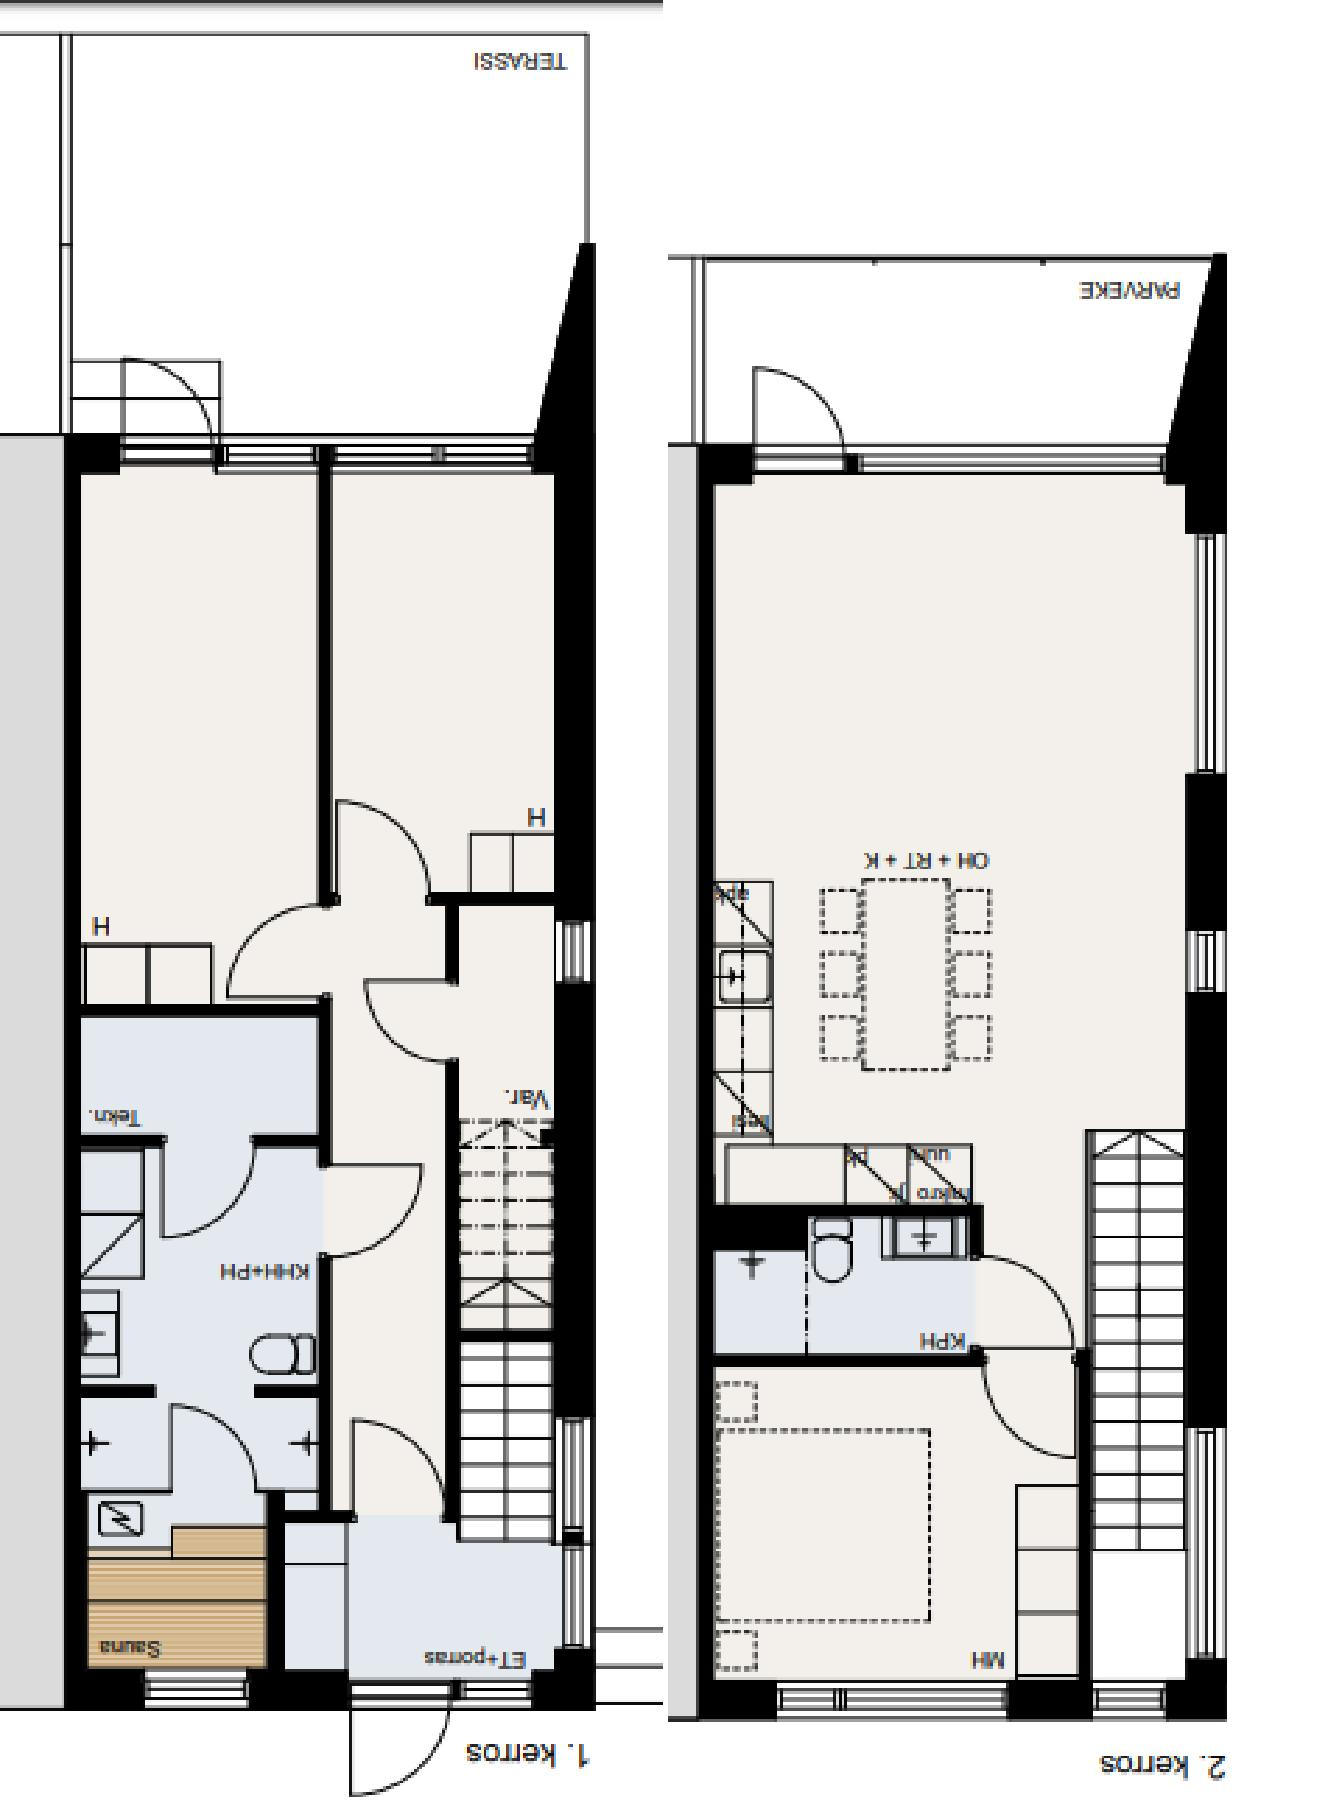door: (962, 1247, 1075, 1469), (207, 889, 336, 1009), (104, 357, 231, 474), (742, 353, 852, 473), (346, 1677, 447, 1799), (327, 1167, 428, 1274), (159, 1134, 257, 1241), (332, 796, 429, 900), (361, 972, 461, 1068), (168, 1397, 261, 1500), (353, 1416, 440, 1515)
window: (864, 440, 1163, 478), (768, 1680, 1012, 1722), (1187, 530, 1225, 774), (1190, 1421, 1221, 1660), (327, 446, 526, 470), (138, 1672, 251, 1710), (1092, 1675, 1169, 1720), (224, 437, 312, 468), (469, 1666, 536, 1706), (1187, 927, 1225, 995)
zone: (82, 470, 579, 1670), (706, 475, 1183, 1680), (68, 27, 583, 440), (73, 451, 334, 1014), (716, 1364, 1089, 1676), (82, 1014, 318, 1502), (697, 257, 1219, 453), (329, 466, 548, 899), (717, 1208, 979, 1363), (82, 1502, 270, 1670)
